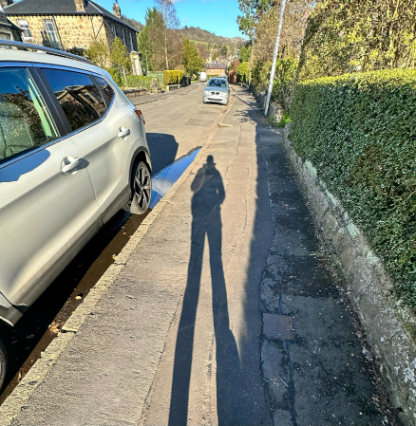car: (0, 22, 154, 418), (200, 74, 242, 107)
tree: (147, 2, 184, 69), (188, 30, 209, 78), (111, 34, 135, 75)
